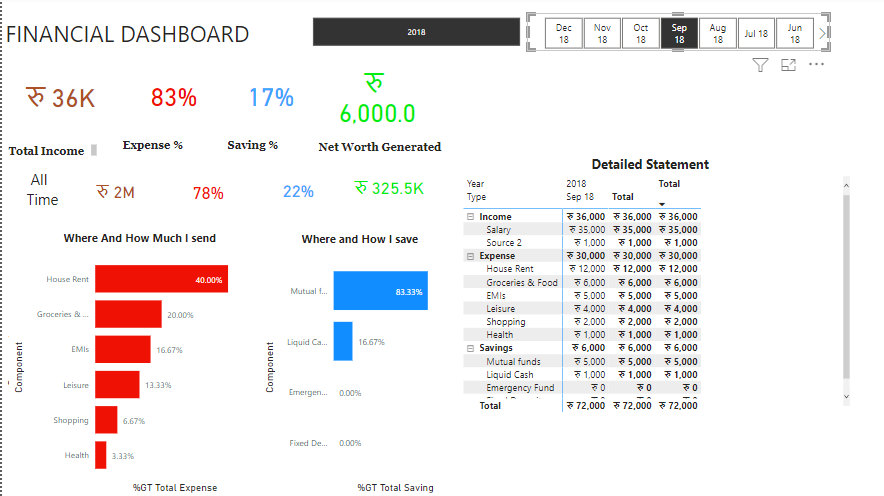

The dashboard page shown, as its layout file describes it:
{"tool":"powerbi","page":{"name":"Page 1","canvas":[1280,720],"ordinal":0},"visuals":[{"type":"card","fields":{"Values":["Key Measure.Total Income"]},"box":[1.4,83.5,165.6,118.1],"z":0},{"type":"card","fields":{"Values":["Key Measure.Expense %"]},"box":[187.7,80.6,121,121],"z":1000},{"type":"card","fields":{"Values":["Key Measure.Savings %"]},"box":[329.3,80.6,113.8,121],"z":2000},{"type":"card","fields":{"Values":["Key Measure.Total Saving"]},"box":[463.7,83.5,152.6,118.1],"z":3000},{"type":"textbox","box":[4.3,207.4,136.8,25.9],"z":4000},{"type":"textbox","box":[168,198.7,125.3,34.6],"z":5000},{"type":"textbox","box":[450.2,201.6,189.8,52.1],"z":6000},{"type":"textbox","box":[320.2,198.7,103.7,34.6],"z":7000},{"type":"slicer","fields":{"Values":["FinData.Year"]},"box":[404.6,23,344.2,54.7],"z":8000},{"type":"slicer","fields":{"Values":["FinData.Date"]},"box":[755.9,23.5,436.7,53.8],"z":9000},{"type":"card","fields":{"Values":["Key Measure.Total Saving"]},"box":[493.9,228.5,126.7,92.2],"z":10000},{"type":"card","fields":{"Values":["Key Measure.Savings %"]},"box":[361.4,240,129.6,76.3],"z":11000},{"type":"card","fields":{"Values":["Key Measure.Expense %"]},"box":[234.7,242.9,123.8,74.9],"z":12000},{"type":"card","fields":{"Values":["Key Measure.Total Income"]},"box":[96.5,241.4,135.4,76.3],"z":13000},{"type":"textbox","box":[30.2,243.6,62.2,99.1],"z":14000},{"type":"textbox","box":[0,25.2,404.8,58.8],"z":15000},{"type":"clusteredBarChart","fields":{"Category":["FinData.Component"],"Y":["Key Measure.Total Expense"]},"box":[0,342.7,358.6,365.8],"z":16000},{"type":"clusteredBarChart","fields":{"Category":["FinData.Component"],"Y":["Key Measure.Total Expense"]},"box":[10,352.7,358.6,365.8],"z":17000},{"type":"textbox","box":[84,330.9,267.1,43.7],"z":18000},{"type":"clusteredBarChart","fields":{"Category":["FinData.Component"],"Y":["Key Measure.Total Saving"]},"box":[371.2,352.8,288.9,366.2],"z":19000},{"type":"textbox","box":[426.7,332.6,218.4,42],"z":20000},{"type":"pivotTable","fields":{"Values":["Key Measure.Values"],"Rows":["FinData.Type","FinData.Component"],"Columns":["FinData.Year","FinData.Date"]},"box":[660.2,253.6,566.1,349.4],"z":21000},{"type":"textbox","box":[843.3,223.4,201.6,38.6],"z":22000}]}

Visuals, with their boxes in screenshot pixels (x1, y1, x2, y2), scaled from the page's 1280x720 canvas onto the 884x496 screenshot:
card - Key Measure.Total Income: <region>1, 58, 115, 139</region>
card - Key Measure.Expense %: <region>130, 56, 213, 139</region>
card - Key Measure.Savings %: <region>227, 56, 306, 139</region>
card - Key Measure.Total Saving: <region>320, 58, 426, 139</region>
textbox: <region>3, 143, 97, 161</region>
textbox: <region>116, 137, 203, 161</region>
textbox: <region>311, 139, 442, 175</region>
textbox: <region>221, 137, 293, 161</region>
slicer - FinData.Year: <region>279, 16, 517, 54</region>
slicer - FinData.Date: <region>522, 16, 824, 53</region>
card - Key Measure.Total Saving: <region>341, 157, 429, 221</region>
card - Key Measure.Savings %: <region>250, 165, 339, 218</region>
card - Key Measure.Expense %: <region>162, 167, 248, 219</region>
card - Key Measure.Total Income: <region>67, 166, 160, 219</region>
textbox: <region>21, 168, 64, 236</region>
textbox: <region>0, 17, 280, 58</region>
clusteredBarChart - FinData.Component x Key Measure.Total Expense: <region>0, 236, 248, 488</region>
clusteredBarChart - FinData.Component x Key Measure.Total Expense: <region>7, 243, 255, 495</region>
textbox: <region>58, 228, 242, 258</region>
clusteredBarChart - FinData.Component x Key Measure.Total Saving: <region>256, 243, 456, 495</region>
textbox: <region>295, 229, 446, 258</region>
pivotTable - Key Measure.Values x FinData.Type: <region>456, 175, 847, 415</region>
textbox: <region>582, 154, 722, 180</region>
